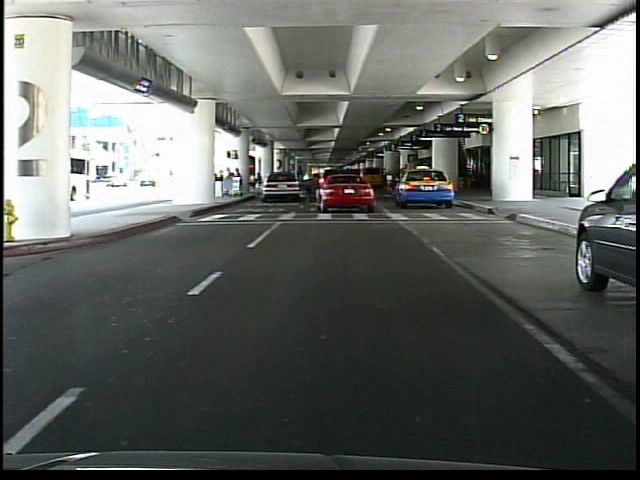person: (294, 165, 308, 201)
